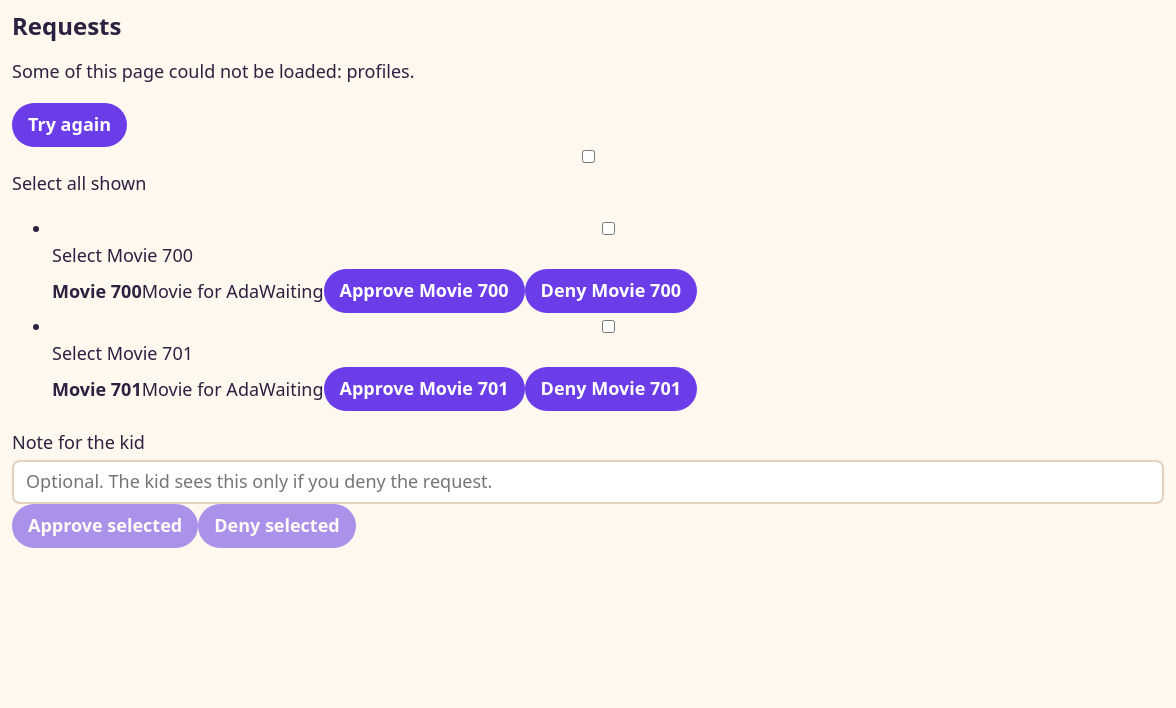
Scenario: still lists waiting requests when profiles fail to load, and retries
The width and height of the screenshot is (1176, 708).
Check: the text "Movie 700" is shown, box x1=52 y1=278 x2=142 y2=302
Check: the text "Some of this page could not be loaded: profiles." is shown, box x1=12 y1=59 x2=414 y2=83
Click the button "Try again": (70, 125) x1=12 y1=103 x2=127 y2=147
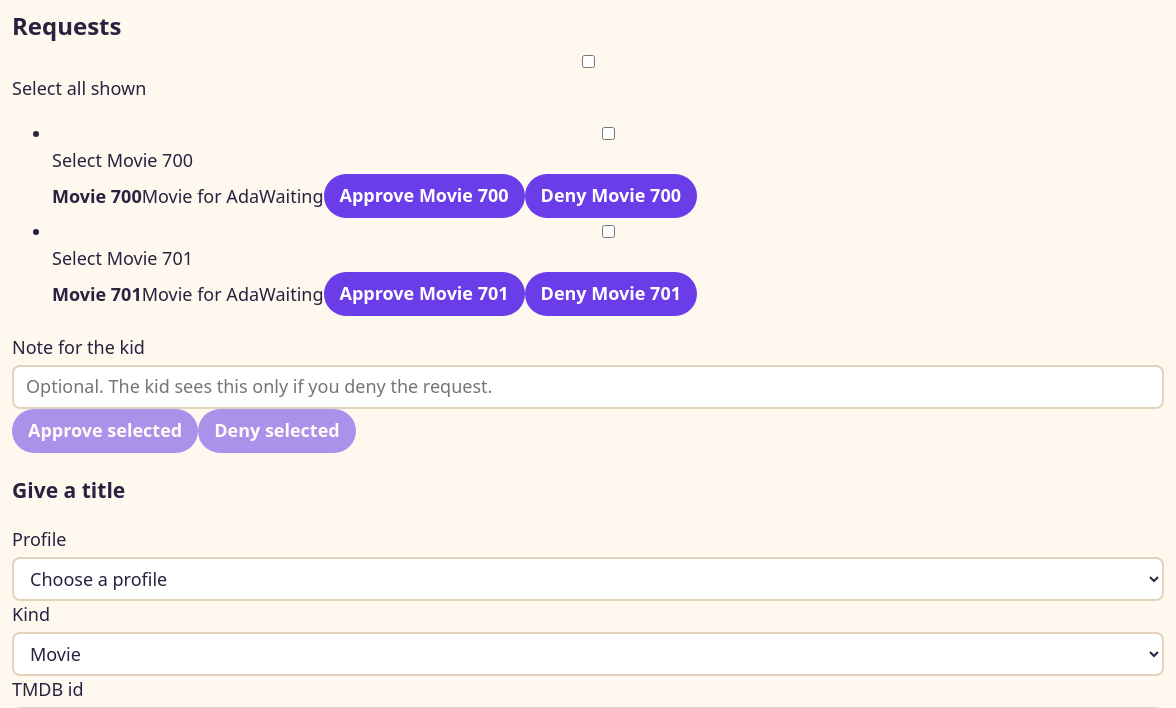
Check: the dropdown labelled "Profile" is shown, box x1=12 y1=557 x2=1164 y2=601
Check: the text "could not be loaded" is gone
